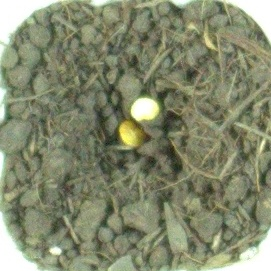pepper seed: (40, 44, 193, 194), (47, 36, 209, 158)
